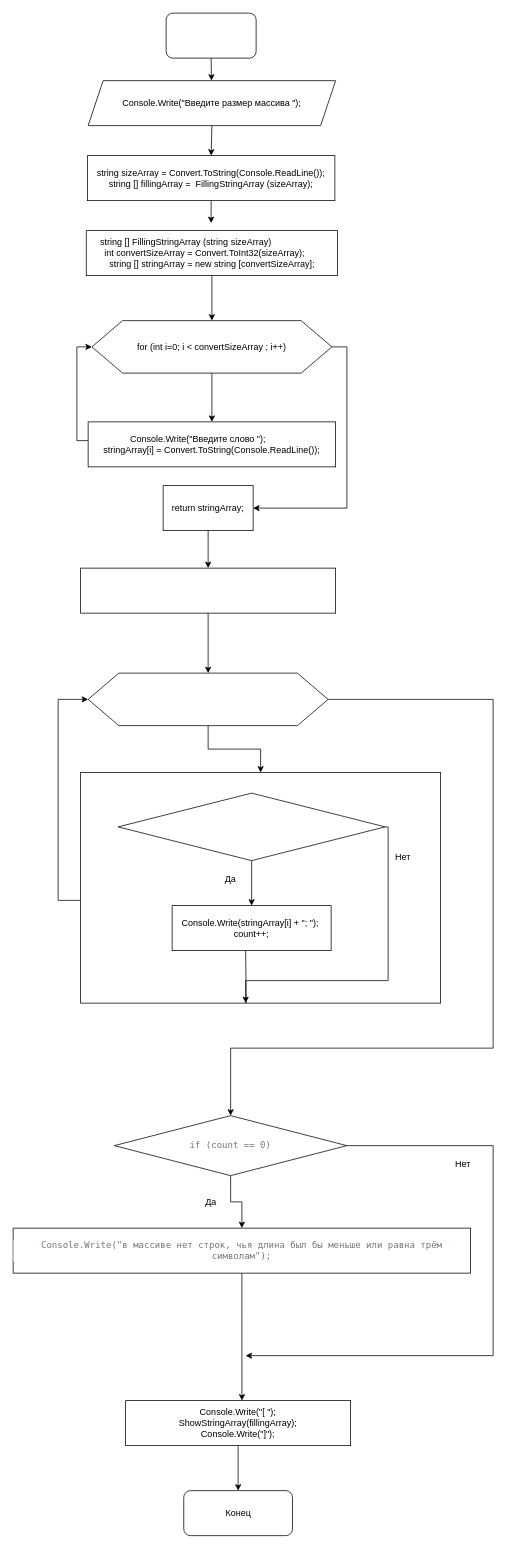
This 512x1549 diagram has some shape labels left out. The shapes that lost their labels are listed below. From the top down, each one's centre as x and y in pixels, then its label:
(210,35): Начало
(208,590): void ShowStringArray(string[] stringArray) int count=0;
(207,699): for(int i=0; i < stringArray.Length ; i++)
(251,826): if (stringArray[i].Length <= 3)
